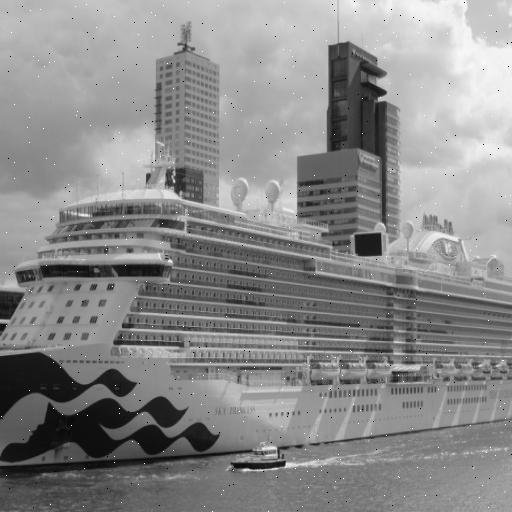cruises: (1, 151, 512, 486)
